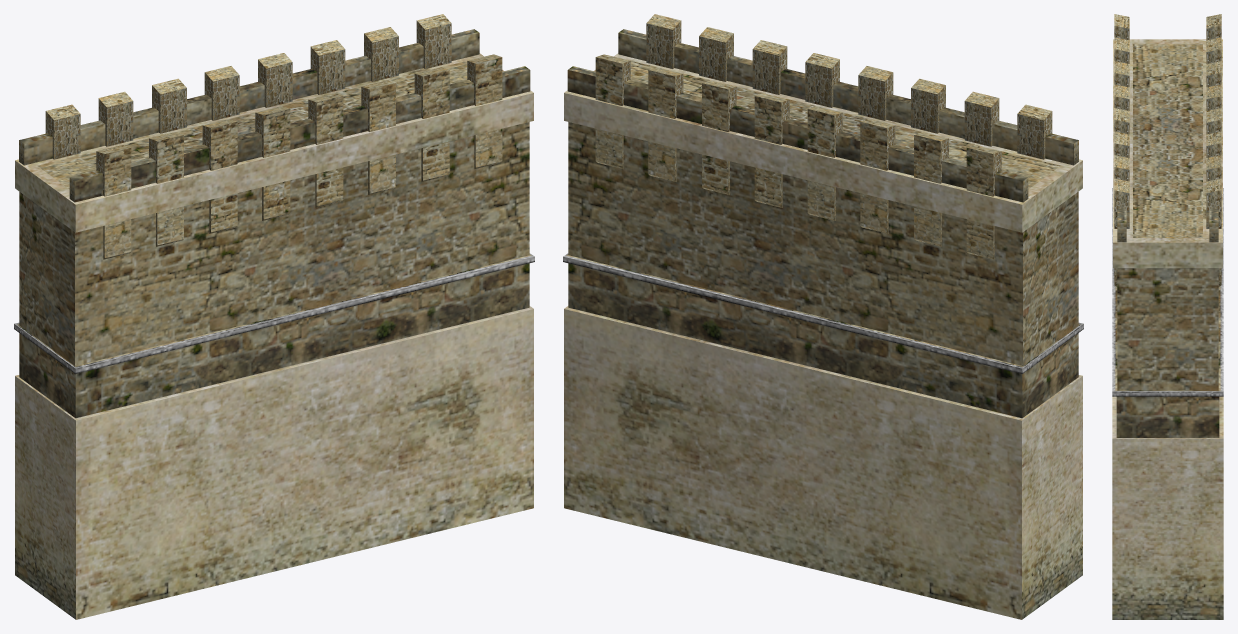
Rendered from s_hellenes_wall_medium.glb.
3 views of the same model, side by side, from view 1: azimuth 30°, elevation 25°; view 2: azimuth 150°, elevation 25°; view 3: azimuth 270°, elevation 25° (orthographic). The views are drawn at different scales.
Visible parts, largest first — view 1: s_hellenes_wall_medium_part0; view 2: s_hellenes_wall_medium_part0; view 3: s_hellenes_wall_medium_part0.
Part boxes in pixels (left/top/right/bottom): s_hellenes_wall_medium_part0: left=14, top=14, right=534, bottom=619; s_hellenes_wall_medium_part0: left=563, top=14, right=1083, bottom=619; s_hellenes_wall_medium_part0: left=1112, top=14, right=1223, bottom=619.
Bounding box in the file's own units: 6.06 × 5.77 × 1.4.
1 material, 1 textured.
